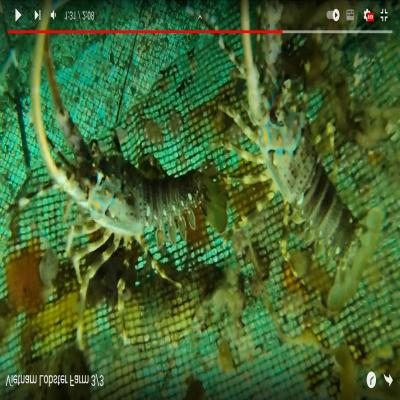lobster: (251, 65, 354, 266), (65, 150, 205, 245)
